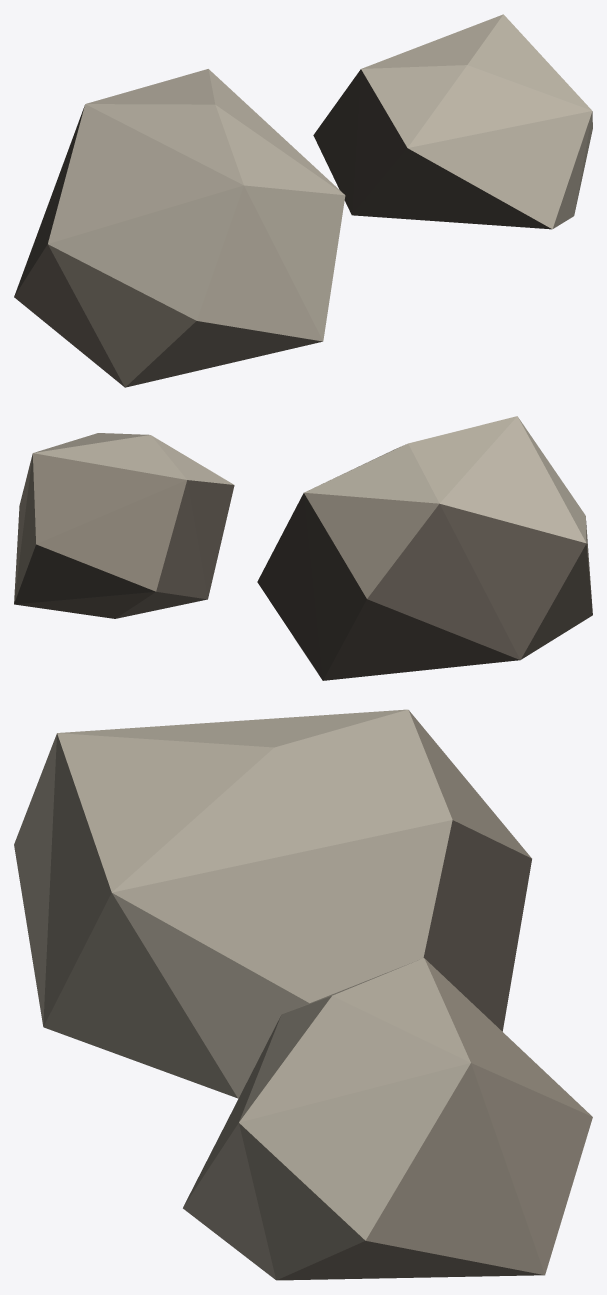
Rendered from stone_smallPair.glb.
The picture shows the model from 3 angles, top to bottom: view 1: azimuth 30°, elevation 25°; view 2: azimuth 150°, elevation 25°; view 3: azimuth 270°, elevation 25°; orthographic projection. The views are drawn at different scales.
Parts seen in each view (by area): view 1: stone_smallPair.002; view 2: stone_smallPair.002; view 3: stone_smallPair.002.
Boxes of the visible parts, x1,y1,x2,y2 form: stone_smallPair.002: [14, 14, 592, 387]; stone_smallPair.002: [14, 416, 592, 680]; stone_smallPair.002: [14, 709, 592, 1280].
Bounding box in the file's own units: 0.25 × 0.0873 × 0.1483.
